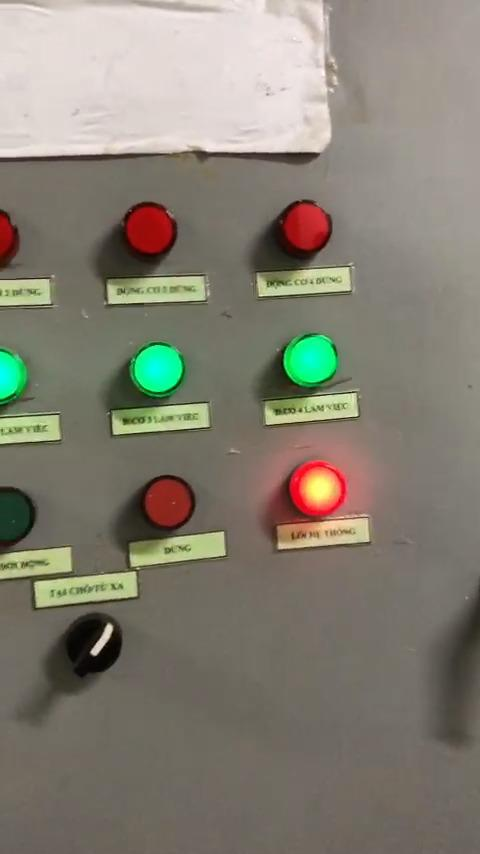led: (117, 198, 181, 264), (121, 339, 184, 404), (284, 460, 346, 520), (138, 474, 200, 534), (282, 329, 339, 390), (276, 198, 334, 256), (0, 486, 39, 548), (0, 349, 30, 408), (0, 213, 24, 269)
twist: (63, 610, 125, 680)
